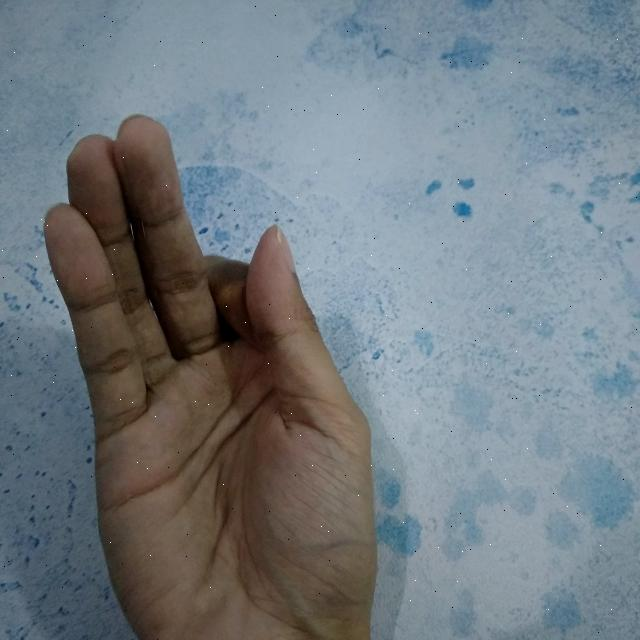F: (48, 113, 378, 640)
